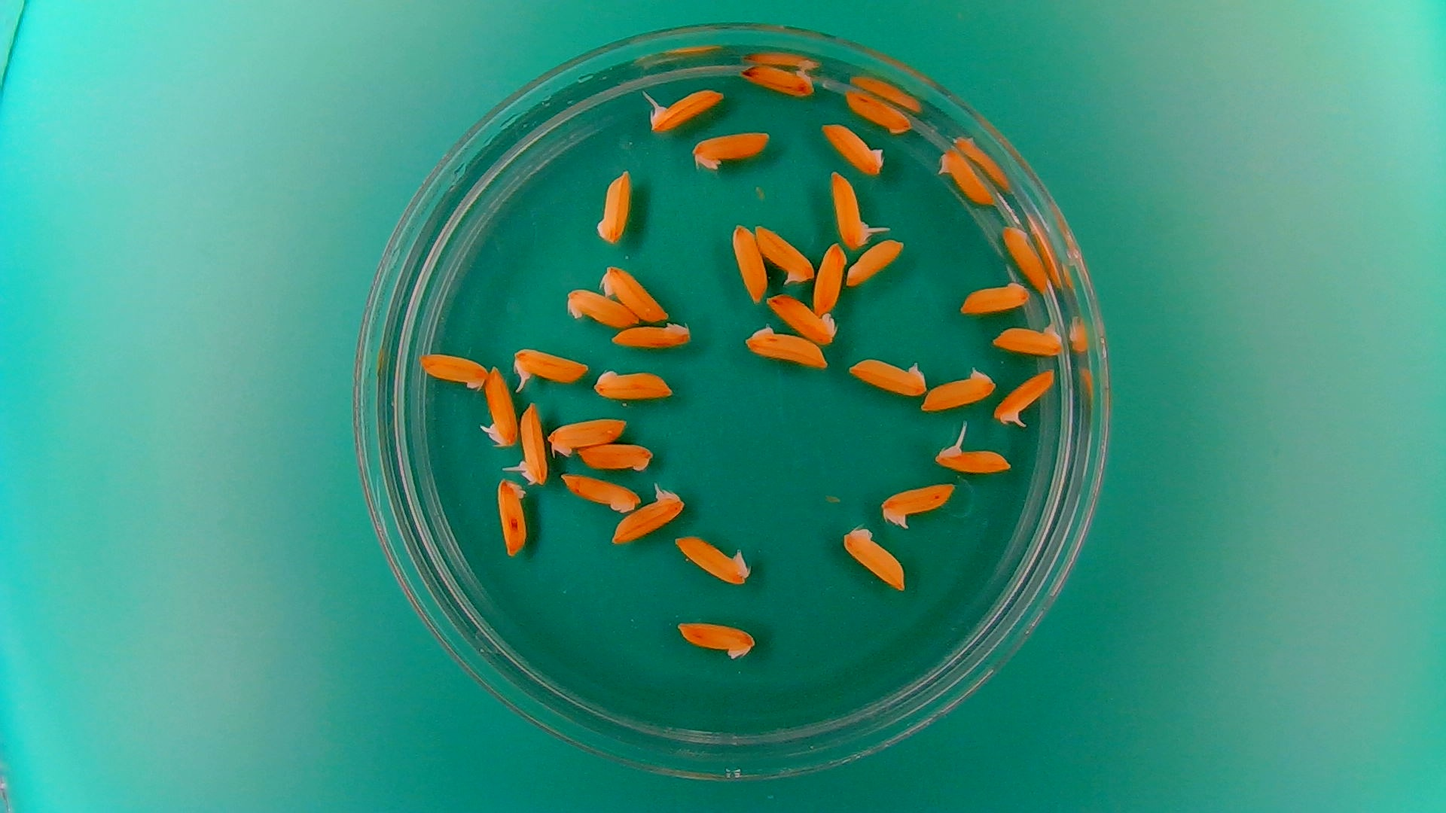no: (837, 522, 909, 593), (670, 531, 752, 586), (557, 468, 642, 521), (599, 260, 671, 322), (740, 321, 829, 371), (671, 614, 758, 662), (543, 412, 631, 458), (765, 291, 839, 345), (919, 364, 998, 414), (842, 352, 929, 397), (688, 126, 773, 172), (932, 428, 1013, 475), (820, 120, 887, 175), (1000, 224, 1052, 294), (590, 362, 679, 401), (843, 235, 907, 288), (563, 285, 639, 328), (593, 166, 633, 247), (729, 221, 768, 304), (417, 349, 489, 392), (493, 473, 529, 558), (844, 87, 911, 132), (609, 316, 696, 350), (957, 276, 1030, 316), (811, 239, 848, 316), (739, 61, 816, 97), (575, 439, 655, 473)
yes: (607, 481, 688, 547), (829, 169, 894, 249), (639, 83, 726, 134), (500, 398, 548, 489), (752, 221, 816, 287), (877, 479, 959, 529), (993, 367, 1057, 430), (509, 344, 590, 391), (479, 361, 520, 449), (935, 147, 996, 206), (990, 320, 1066, 357)
